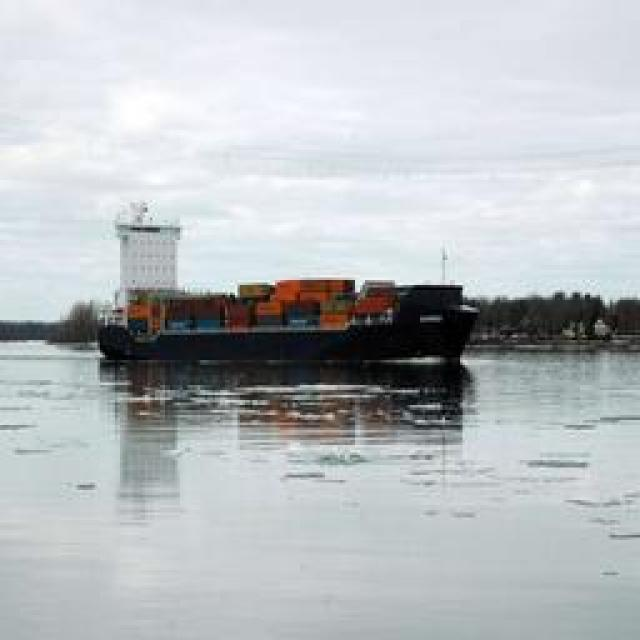CIV_Ship: (106, 275, 479, 365)
